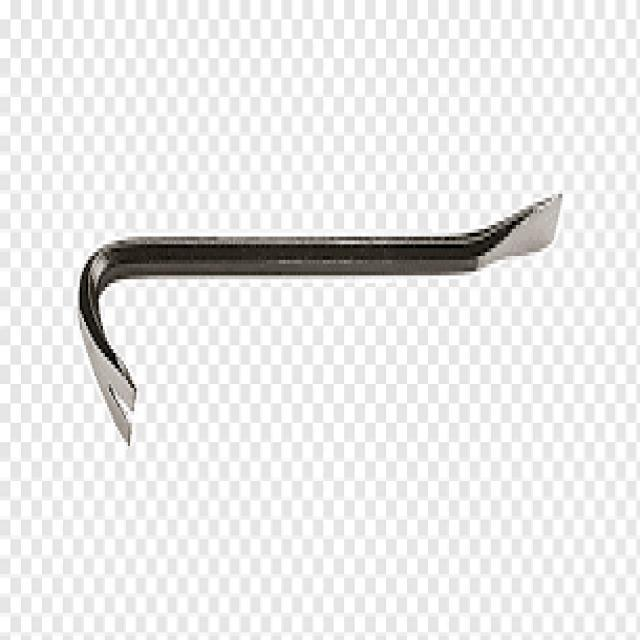Linggis: (71, 180, 565, 452)
